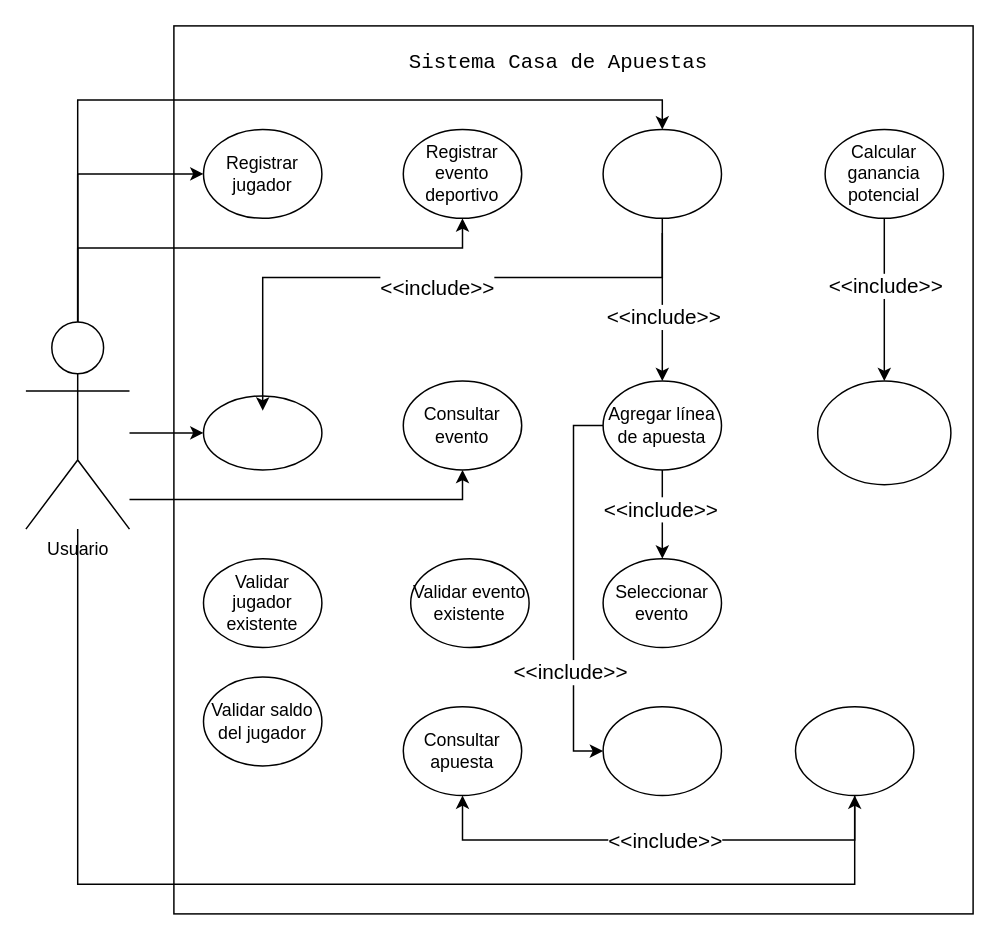
Some shapes in this 999 by 940 pixel diagram are drawn without their labels. The shapes that lost their labels are listed below. From the top down, each one's centre as x and y in pixels, then its label:
At [662,173]: "Crear ticket de apuesta".
At [262,432]: "Buscar jugador".
At [883,432]: "Calcular cuota total".
At [662,750]: "Seleccionar pronóstico".
At [854,750]: "Listar tickets".
